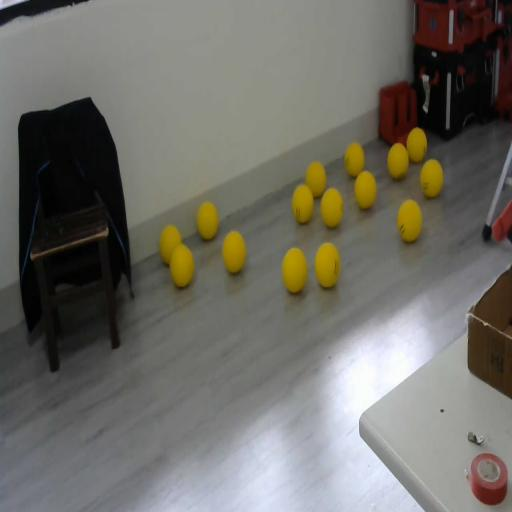FUEL: (281, 246, 308, 294), (314, 242, 340, 288), (221, 229, 247, 274), (396, 198, 422, 242), (158, 223, 182, 266), (320, 186, 344, 228), (419, 158, 444, 198), (353, 169, 377, 210), (196, 200, 219, 241), (292, 183, 314, 224), (305, 160, 327, 198), (387, 142, 409, 180), (406, 127, 428, 163), (344, 142, 365, 178)
